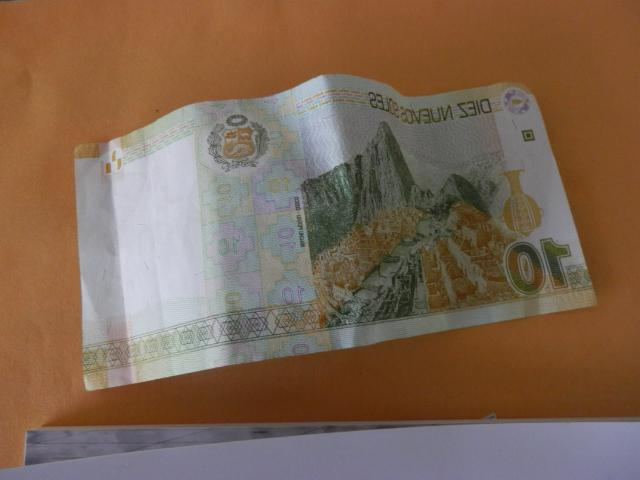B10: (75, 76, 597, 389)
